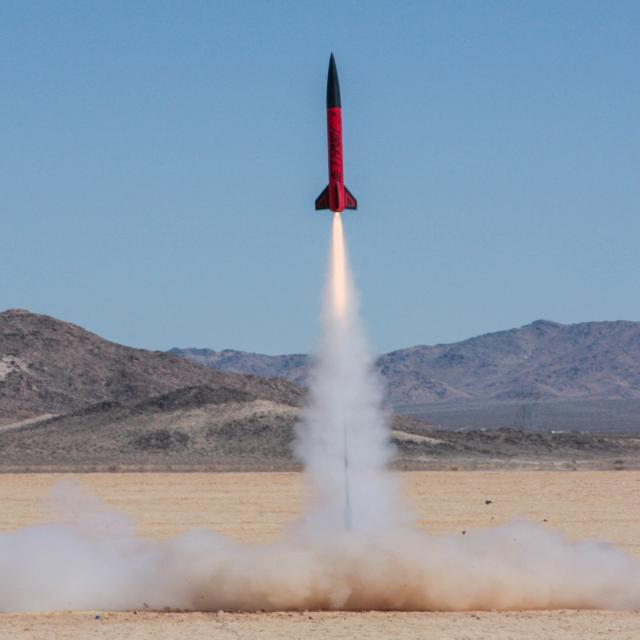Rocket: (312, 50, 359, 215)
